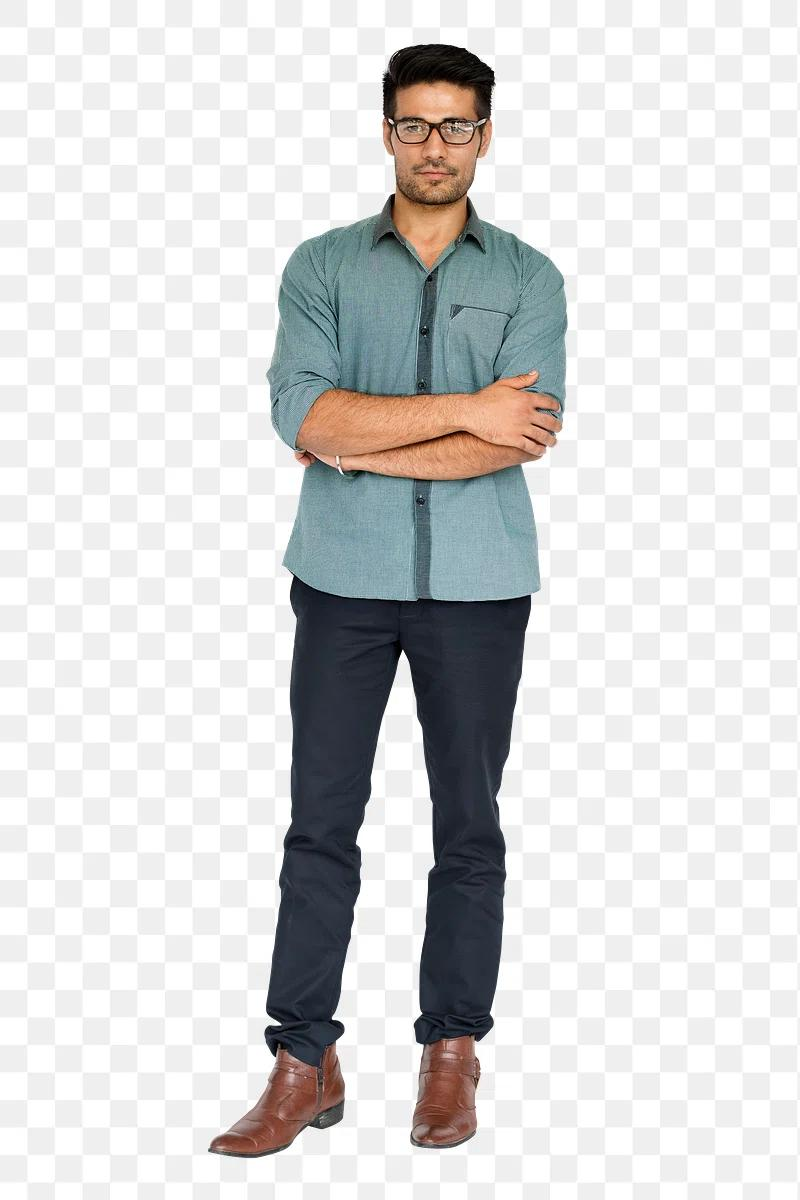Human: (241, 31, 558, 1172)
